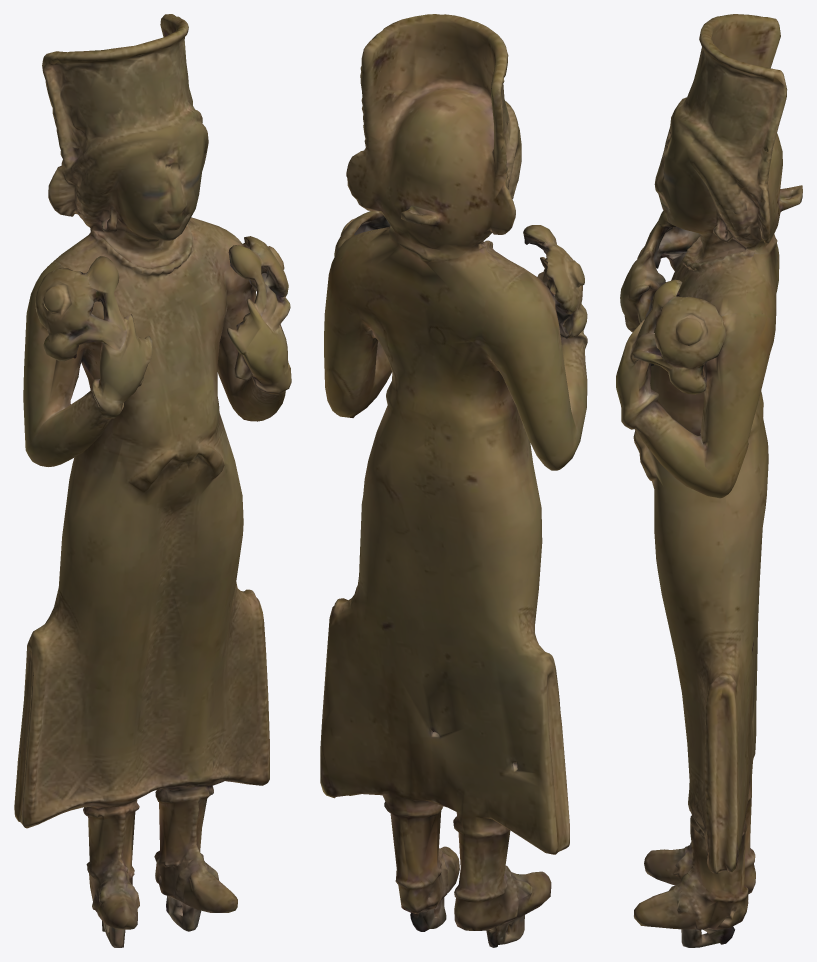
The model's file is surya-lo.glb.
The picture shows the model from 3 angles, left to right: view 1: azimuth 30°, elevation 25°; view 2: azimuth 150°, elevation 25°; view 3: azimuth 270°, elevation 25°; orthographic projection. The views are drawn at different scales.
Parts seen in each view (by area): view 1: Object_2; view 2: Object_2; view 3: Object_2.
Boxes of the visible parts, x1,y1,x2,y2 form: Object_2: [14, 14, 291, 947]; Object_2: [320, 14, 587, 947]; Object_2: [616, 14, 802, 947].
Size of the model in its own units: 0.1472 by 0.5213 by 0.0982.
Materials: 1 (1 with a texture image).
